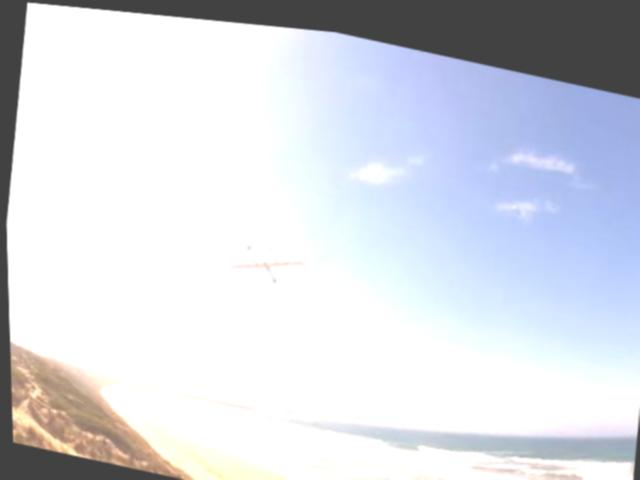uav: (220, 221, 314, 294)
